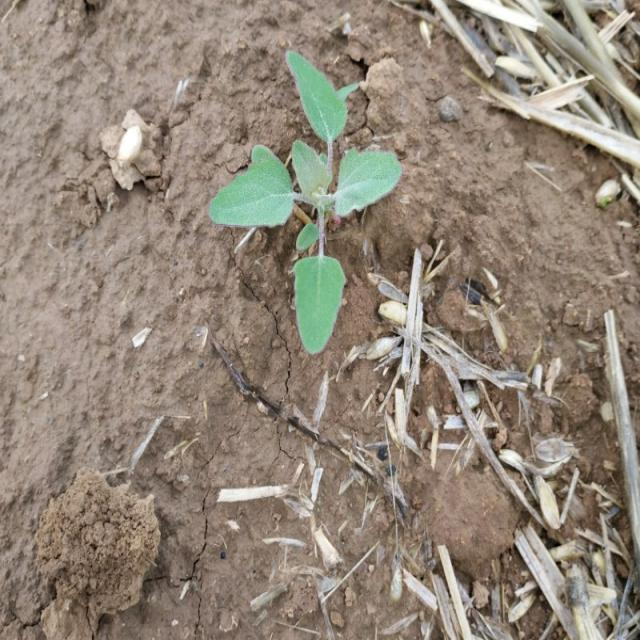goosefoots: (213, 53, 385, 349)
